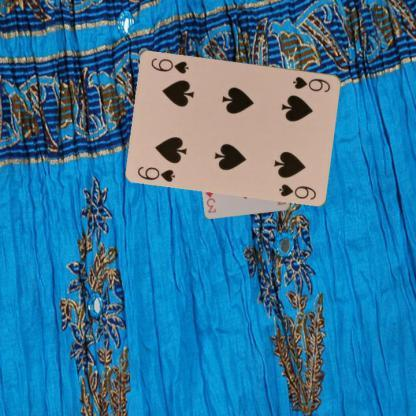6s: (290, 74, 332, 94), (135, 164, 177, 182)
